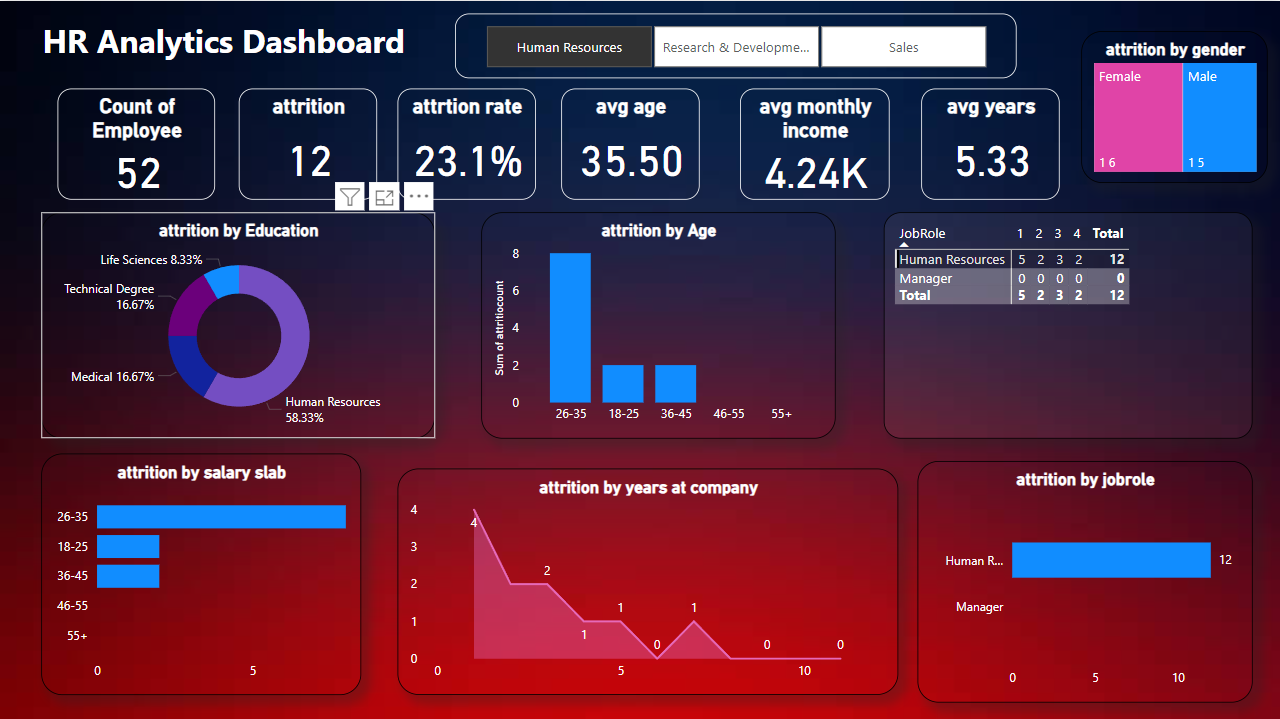

The dashboard page shown, as its layout file describes it:
{"tool":"powerbi","page":{"name":"Page 1","canvas":[1280,720],"ordinal":0},"visuals":[{"type":"card","title":"Count  of Employee","fields":{"Values":["Count(HR_Analytics.EmpID)"]},"box":[57.6,87.8,157.8,111.1],"z":0},{"type":"card","title":"attrition","fields":{"Values":["Sum(HR_Analytics.attritiocount)"]},"box":[238.8,87.8,138.6,111.1],"z":1000},{"type":"card","title":"attrtion rate","fields":{"Values":["HR_Analytics.attritionrate"]},"box":[397.9,87.8,138.6,111.1],"z":2000},{"type":"card","title":"avg age","fields":{"Values":["Avg(HR_Analytics.Age)"]},"box":[561.2,87.8,138.6,111.1],"z":3000},{"type":"card","title":"avg years","fields":{"Values":["Avg(HR_Analytics.YearsAtCompany)"]},"box":[920.8,87.8,138.6,111.1],"z":4000},{"type":"card","title":"avg monthly income","fields":{"Values":["Avg(HR_Analytics.MonthlyIncome)"]},"box":[739.6,87.8,149.6,111.1],"z":5000},{"type":"donutChart","title":"attrition by Education","fields":{"Y":["Sum(HR_Analytics.attritiocount)"],"Category":["HR_Analytics.EducationField"]},"box":[41.2,211.3,393.8,226.4],"z":6000},{"type":"columnChart","title":"attrition by Age","fields":{"Y":["Sum(HR_Analytics.attritiocount)"],"Category":["HR_Analytics.AgeGroup"]},"box":[481.6,211.3,354,226.4],"z":7000},{"type":"pivotTable","fields":{"Rows":["HR_Analytics.JobRole"],"Columns":["HR_Analytics.JobSatisfaction"],"Values":["Sum(HR_Analytics.attritiocount)"]},"box":[883.7,211.3,369.1,226.4],"z":8000},{"type":"barChart","title":"attrition by Age","fields":{"Category":["HR_Analytics.AgeGroup"],"Y":["Sum(HR_Analytics.attritiocount)"]},"box":[41.2,452.8,319.7,241.5],"z":9000},{"type":"barChart","title":"attrition by jobrole","fields":{"Y":["Sum(HR_Analytics.attritiocount)"],"Category":["HR_Analytics.JobRole"]},"box":[918,459.7,334.8,241.5],"z":10000},{"type":"areaChart","title":"attrition by Age","fields":{"Category":["HR_Analytics.YearsAtCompany"],"Y":["Sum(HR_Analytics.attritiocount)"]},"box":[397.9,467.9,500.9,226.4],"z":11000},{"type":"treemap","title":"attrition by Age","fields":{"Values":["Sum(HR_Analytics.attritiocount)"],"Group":["HR_Analytics.Gender"],"Details":["HR_Analytics.attritiocount"]},"box":[1081.3,30.2,186.6,152.3],"z":12000},{"type":"slicer","fields":{"Values":["HR_Analytics.Department"]},"box":[322.5,12.3,694.3,64.5],"z":13000}]}

Visuals, with their boxes in screenshot pixels (x1, y1, x2, y2), scaled from the page's 1280x720 canvas onto the 1280x719 screenshot:
"Count  of Employee" card: [58,88,215,199]
"attrition" card: [239,88,377,199]
"attrtion rate" card: [398,88,536,199]
"avg age" card: [561,88,700,199]
"avg years" card: [921,88,1059,199]
"avg monthly income" card: [740,88,889,199]
"attrition by Education" donutChart: [41,211,435,437]
"attrition by Age" columnChart: [482,211,836,437]
pivotTable - HR_Analytics.JobRole x HR_Analytics.JobSatisfaction: [884,211,1253,437]
"attrition by Age" barChart: [41,452,361,693]
"attrition by jobrole" barChart: [918,459,1253,700]
"attrition by Age" areaChart: [398,467,899,693]
"attrition by Age" treemap: [1081,30,1268,182]
slicer - HR_Analytics.Department: [322,12,1017,77]
